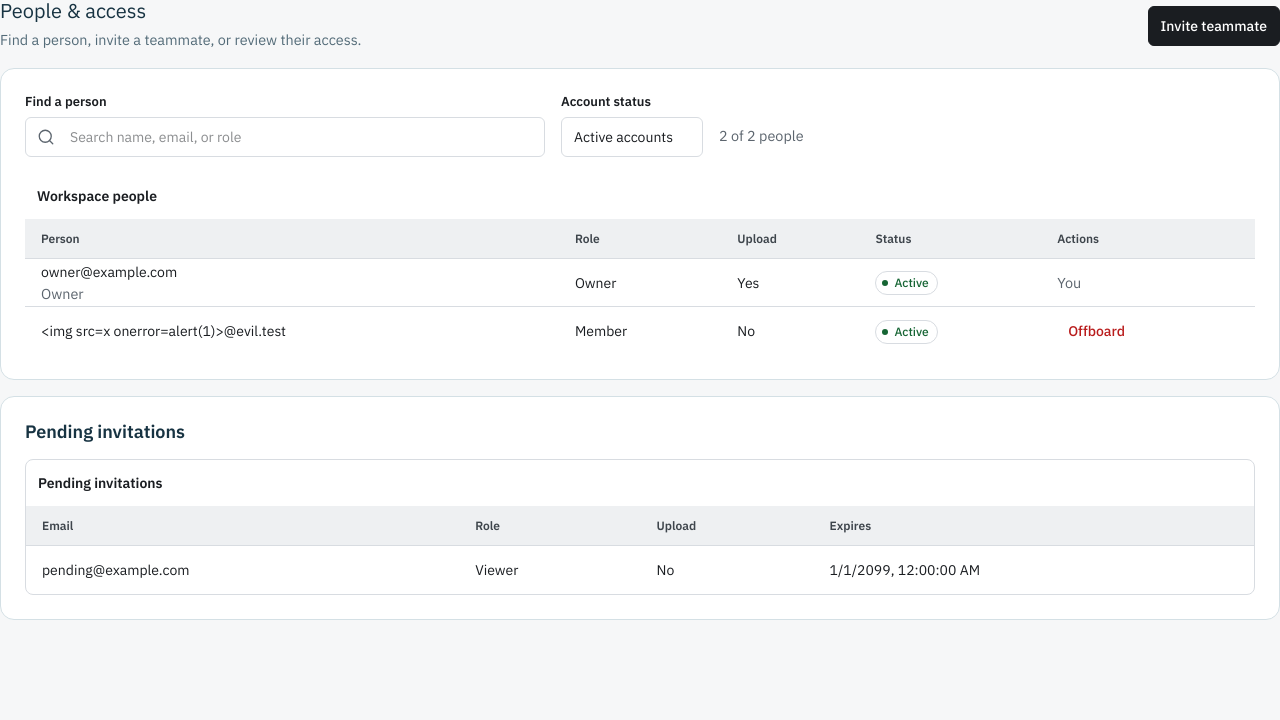
Test: TeamAccessPanel › lists workspace people and pending invitations for an owner
Expected: the table "Workspace people" is shown, [25,173,1255,355]
Expected: the text "owner@example.com" is shown, [41,263,177,281]
Click the button "Offboard" at (1097, 331), box [1057,315,1136,347]
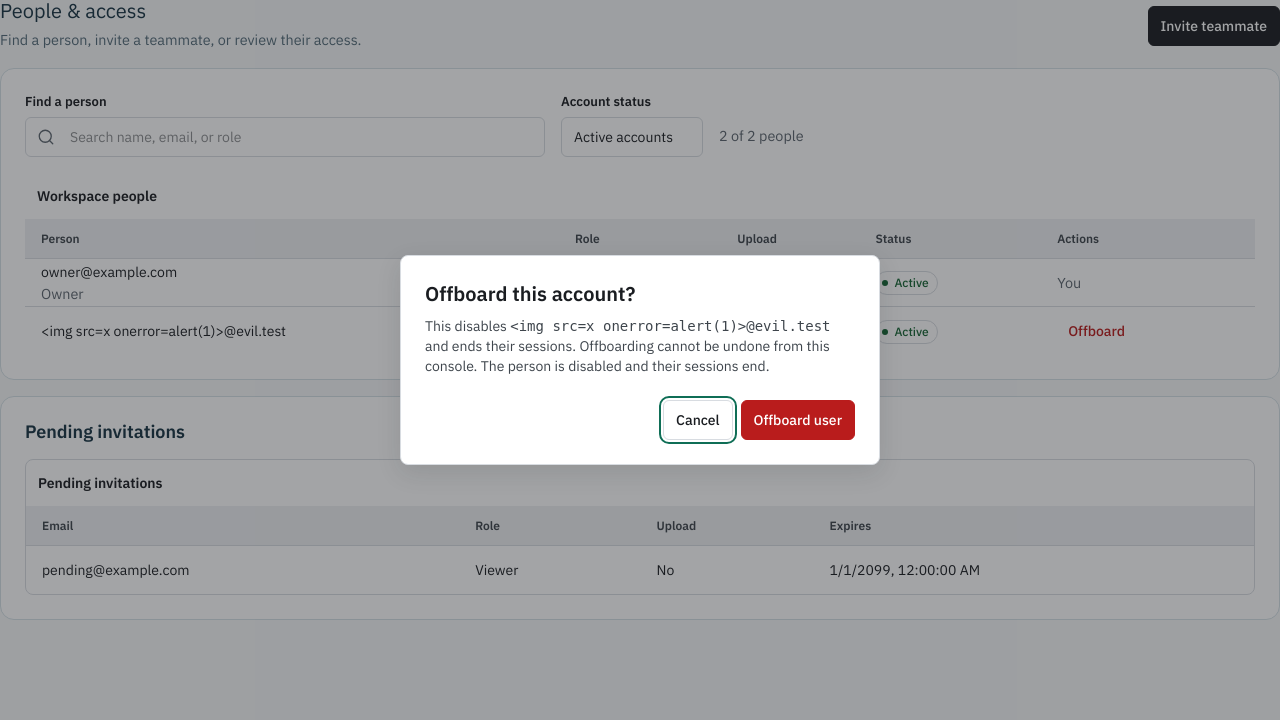
Expected: the dialog is shown, [400,255,880,465]
